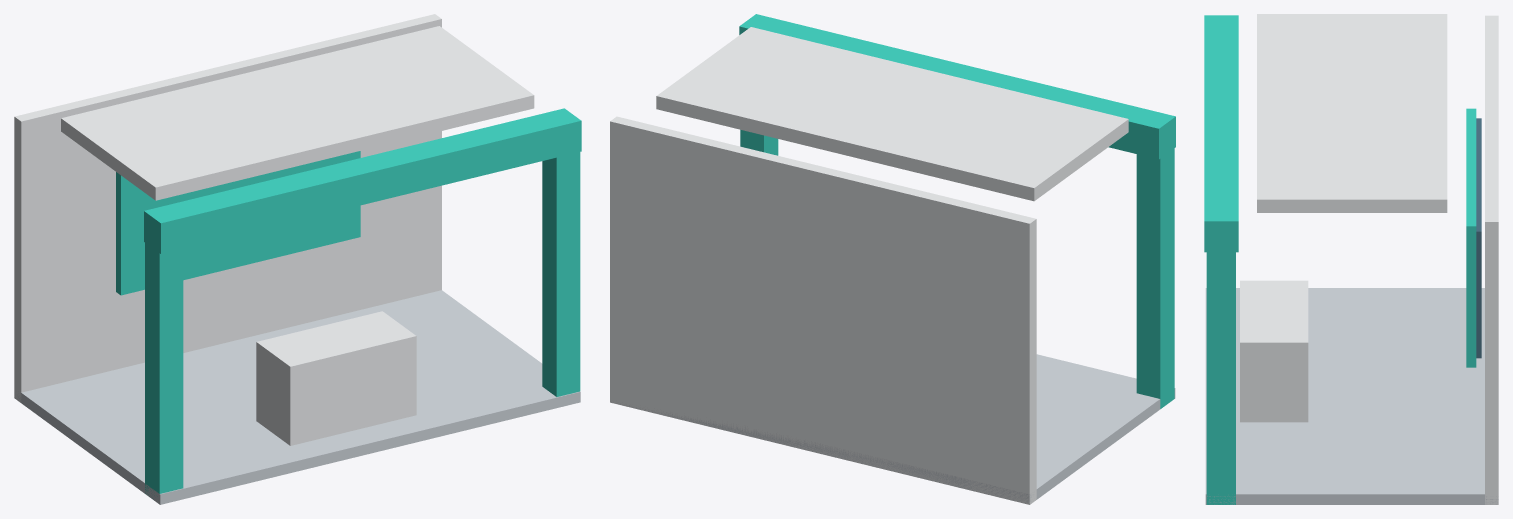
3 views of the same model, side by side, from view 1: azimuth 30°, elevation 25°; view 2: azimuth 150°, elevation 25°; view 3: azimuth 270°, elevation 25° (orthographic).
Parts seen in each view (by area): view 1: Exhibition Booth Concept; view 2: Exhibition Booth Concept; view 3: Exhibition Booth Concept.
Part boxes in pixels (left/top/right/bottom): Exhibition Booth Concept: left=14, top=14, right=581, bottom=504; Exhibition Booth Concept: left=610, top=14, right=1175, bottom=504; Exhibition Booth Concept: left=1204, top=14, right=1498, bottom=504.
Bounding box in the file's own units: 5 × 3.34 × 3.01.
